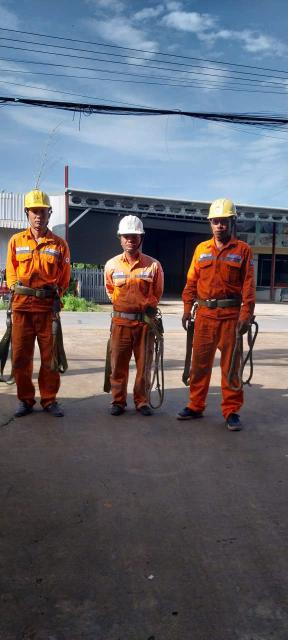harness: (100, 303, 163, 329), (178, 295, 246, 314), (8, 282, 67, 301)
helmet: (196, 192, 252, 227), (96, 211, 152, 237), (19, 188, 55, 213)
shoes: (218, 403, 247, 434), (12, 390, 37, 425), (40, 393, 69, 422), (177, 401, 212, 422), (106, 394, 130, 422), (132, 397, 159, 418)
